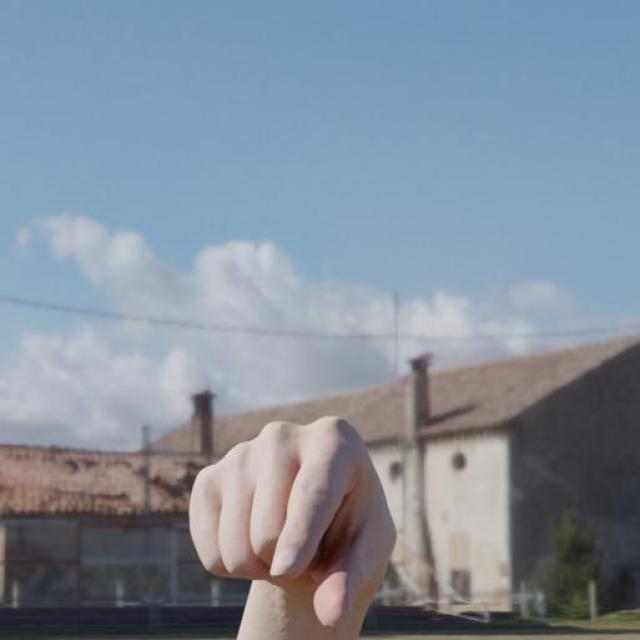Q: (183, 412, 402, 633)
